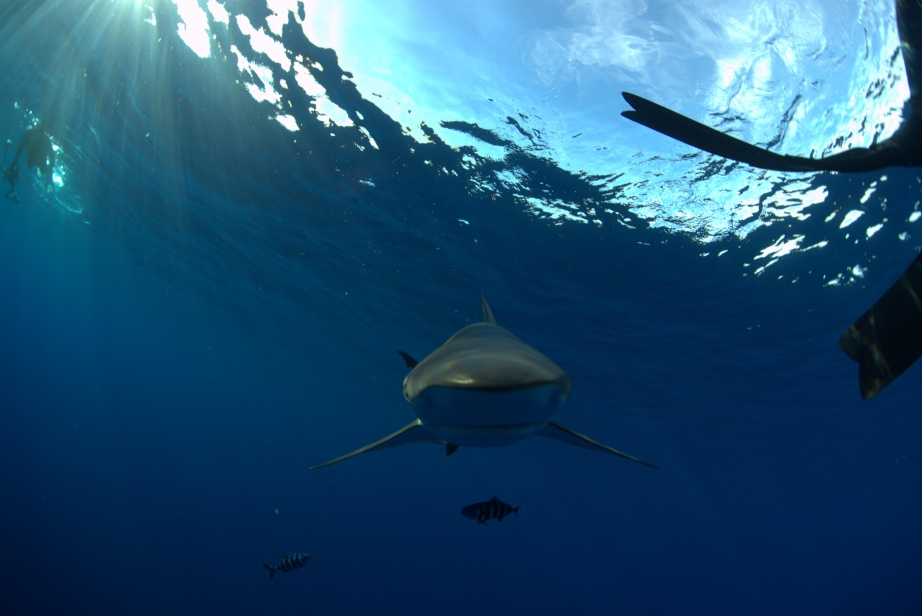Sedoso: (298, 283, 664, 492)
